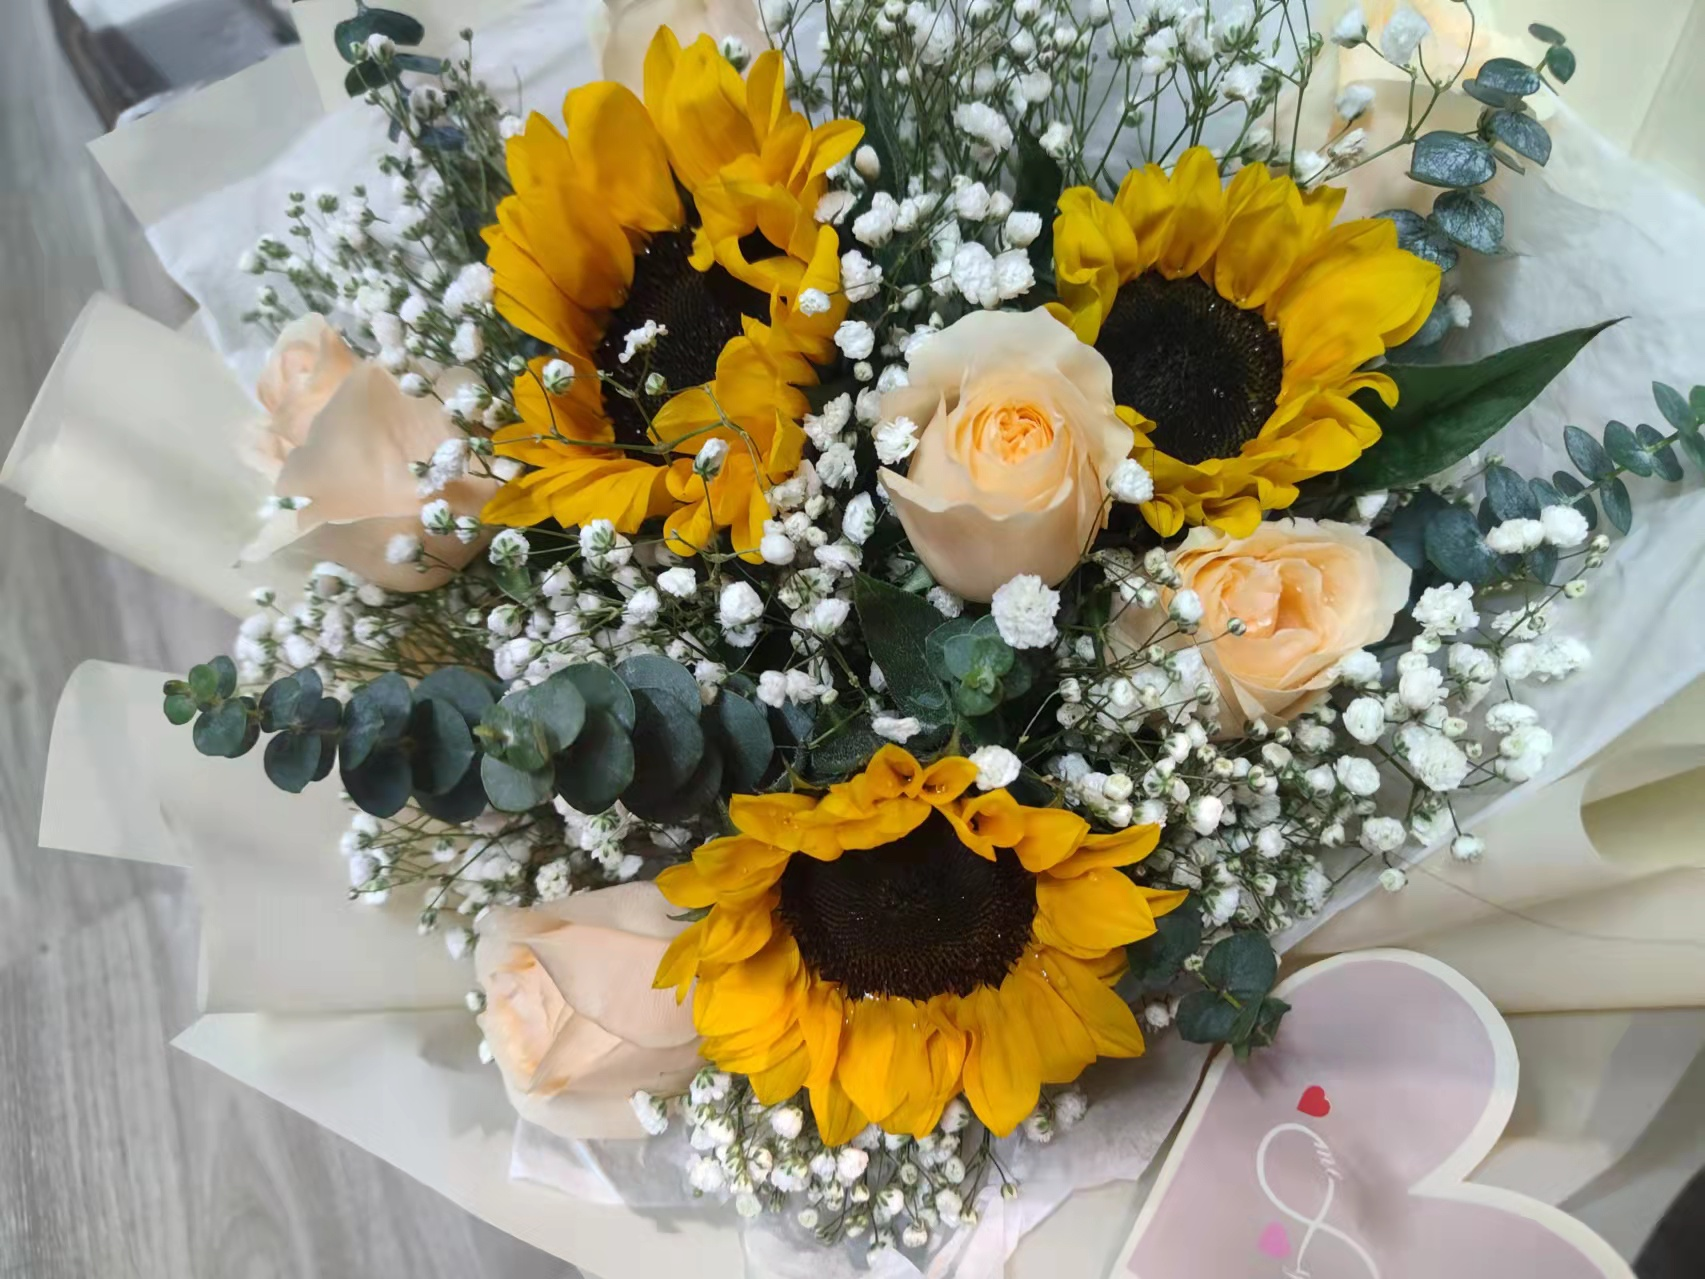花: (238, 8, 1671, 1259)
